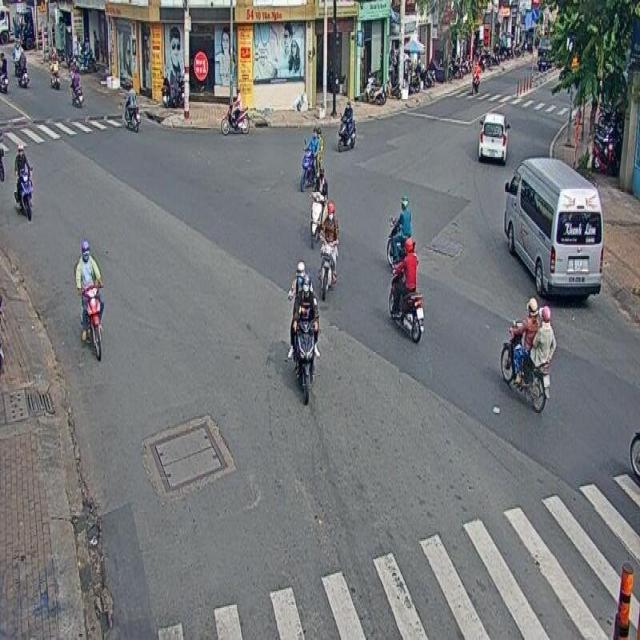car: (478, 112, 509, 158)
motorcycle: (499, 297, 556, 415), (288, 260, 320, 406), (388, 236, 424, 343), (75, 239, 104, 360), (320, 201, 338, 300), (300, 126, 323, 192), (220, 86, 250, 136), (13, 143, 32, 221), (310, 166, 328, 248), (338, 99, 356, 152)
truck: (502, 158, 604, 296)
